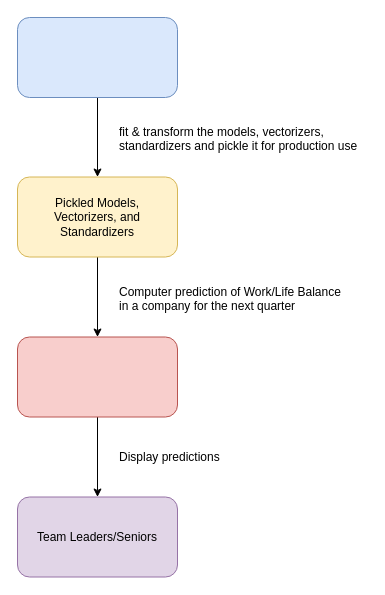
This 385x595 diagram has some shape labels left out. The box of each missing label's shape, as (x1, y1, x2, y2) in pixels:
Pre-processed Data from Glassdoor and StockAPI: (16, 16, 178, 98)
WebApp: (16, 336, 178, 417)
